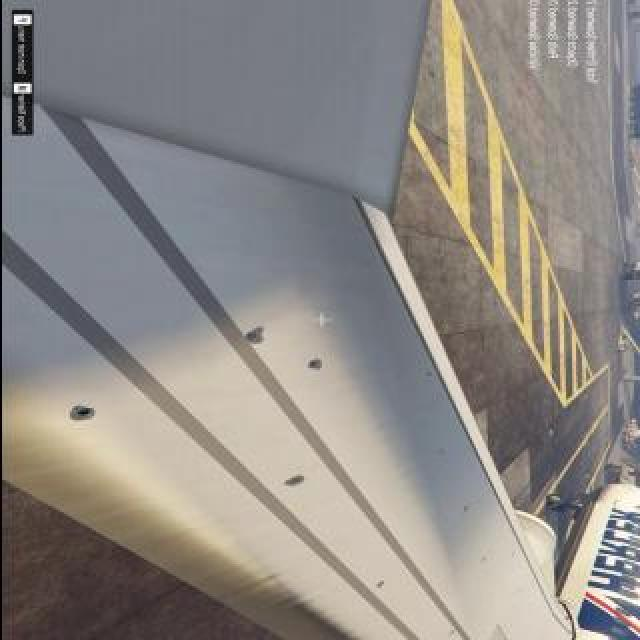crack: (56, 401, 100, 427), (240, 321, 268, 349), (277, 472, 309, 492), (305, 356, 327, 372), (458, 503, 474, 517), (371, 579, 387, 591), (421, 370, 437, 378), (434, 447, 446, 457)
